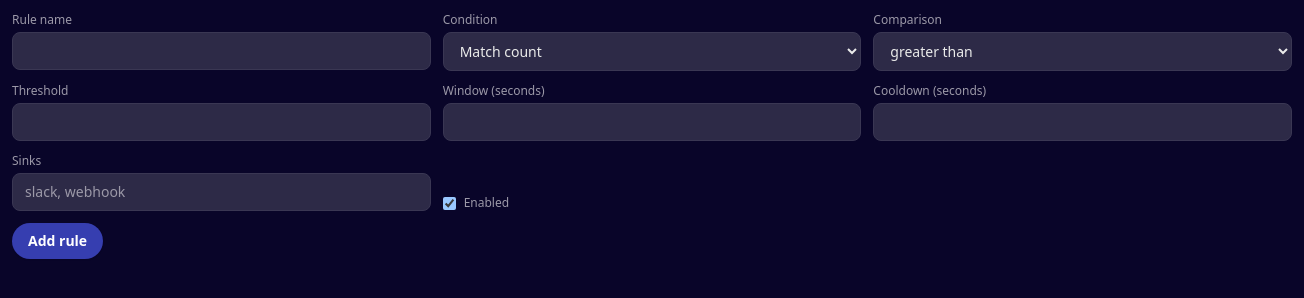
AlertRuleForm › blocks submit and shows a guard when windowSeconds < 1
Step 1. Type "spike" into the field labelled "Rule name" → (221, 51), box [12,32,431,70]
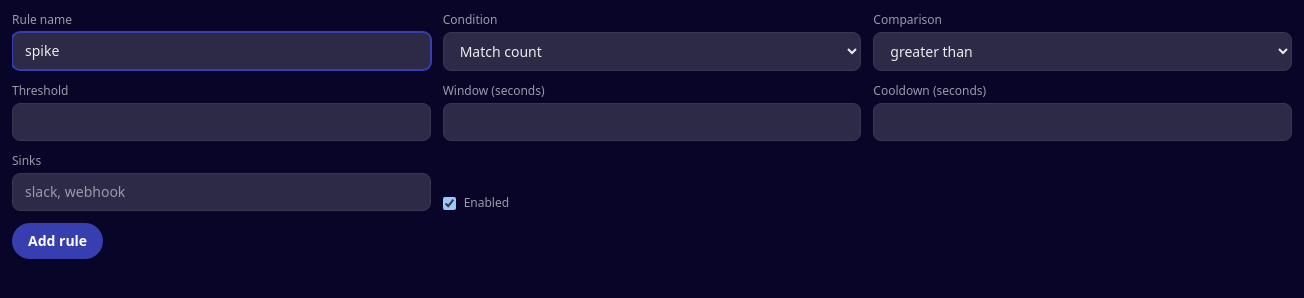
Step 2. Type "10" into the number field labelled "Threshold" → (221, 122), box [12,103,431,141]
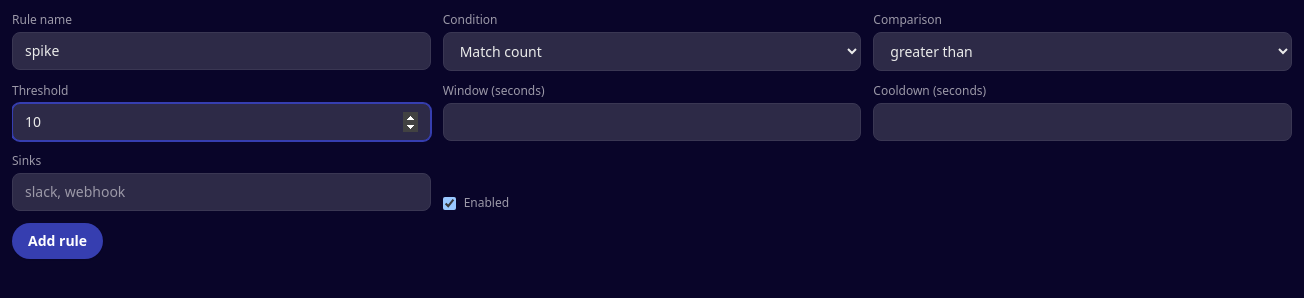
Step 3. Type "0" into the number field labelled "Window (seconds)" → (652, 122), box [443,103,861,141]
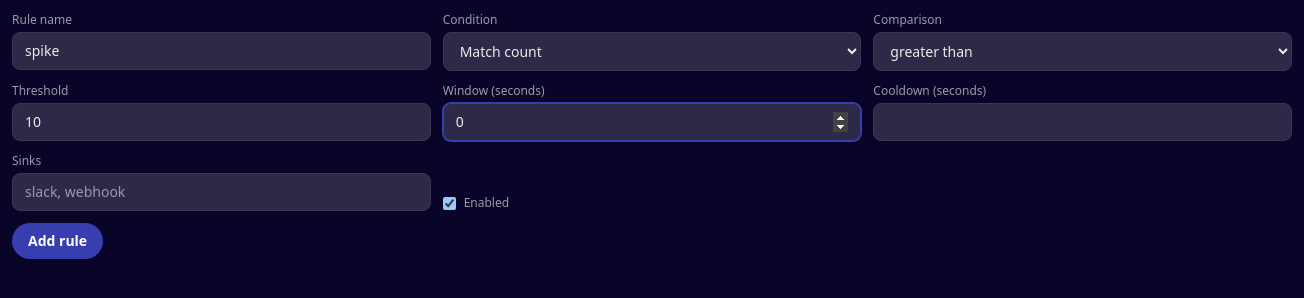
Step 4. Type "60" into the number field labelled "Cooldown (seconds)" → (1083, 122), box [873,103,1292,141]
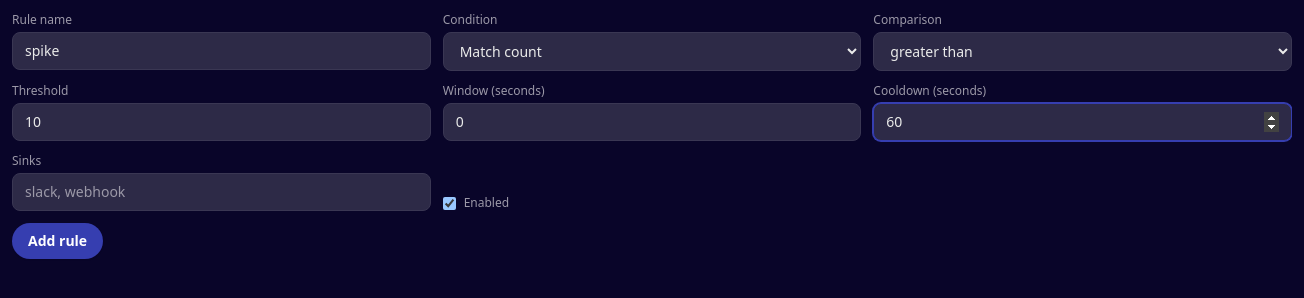
Step 5. Click the button "Add rule" → (58, 241), box [12,223,103,259]
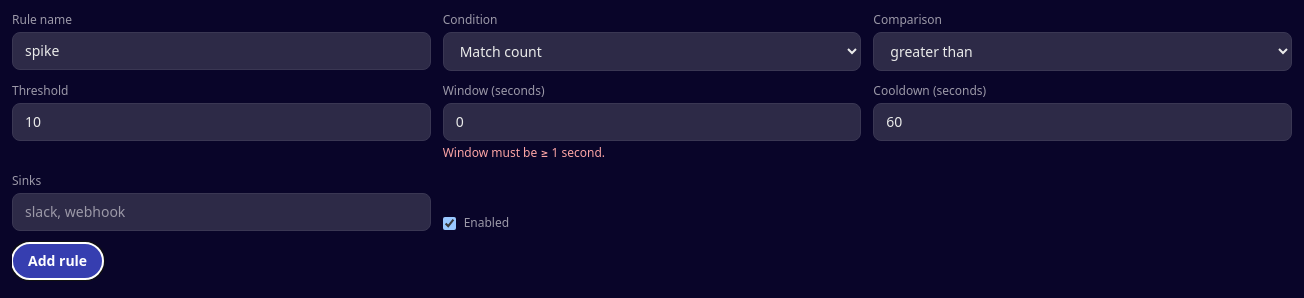
Expected: the text "Window must be ≥ 1 second." is shown, [443,144,605,161]
